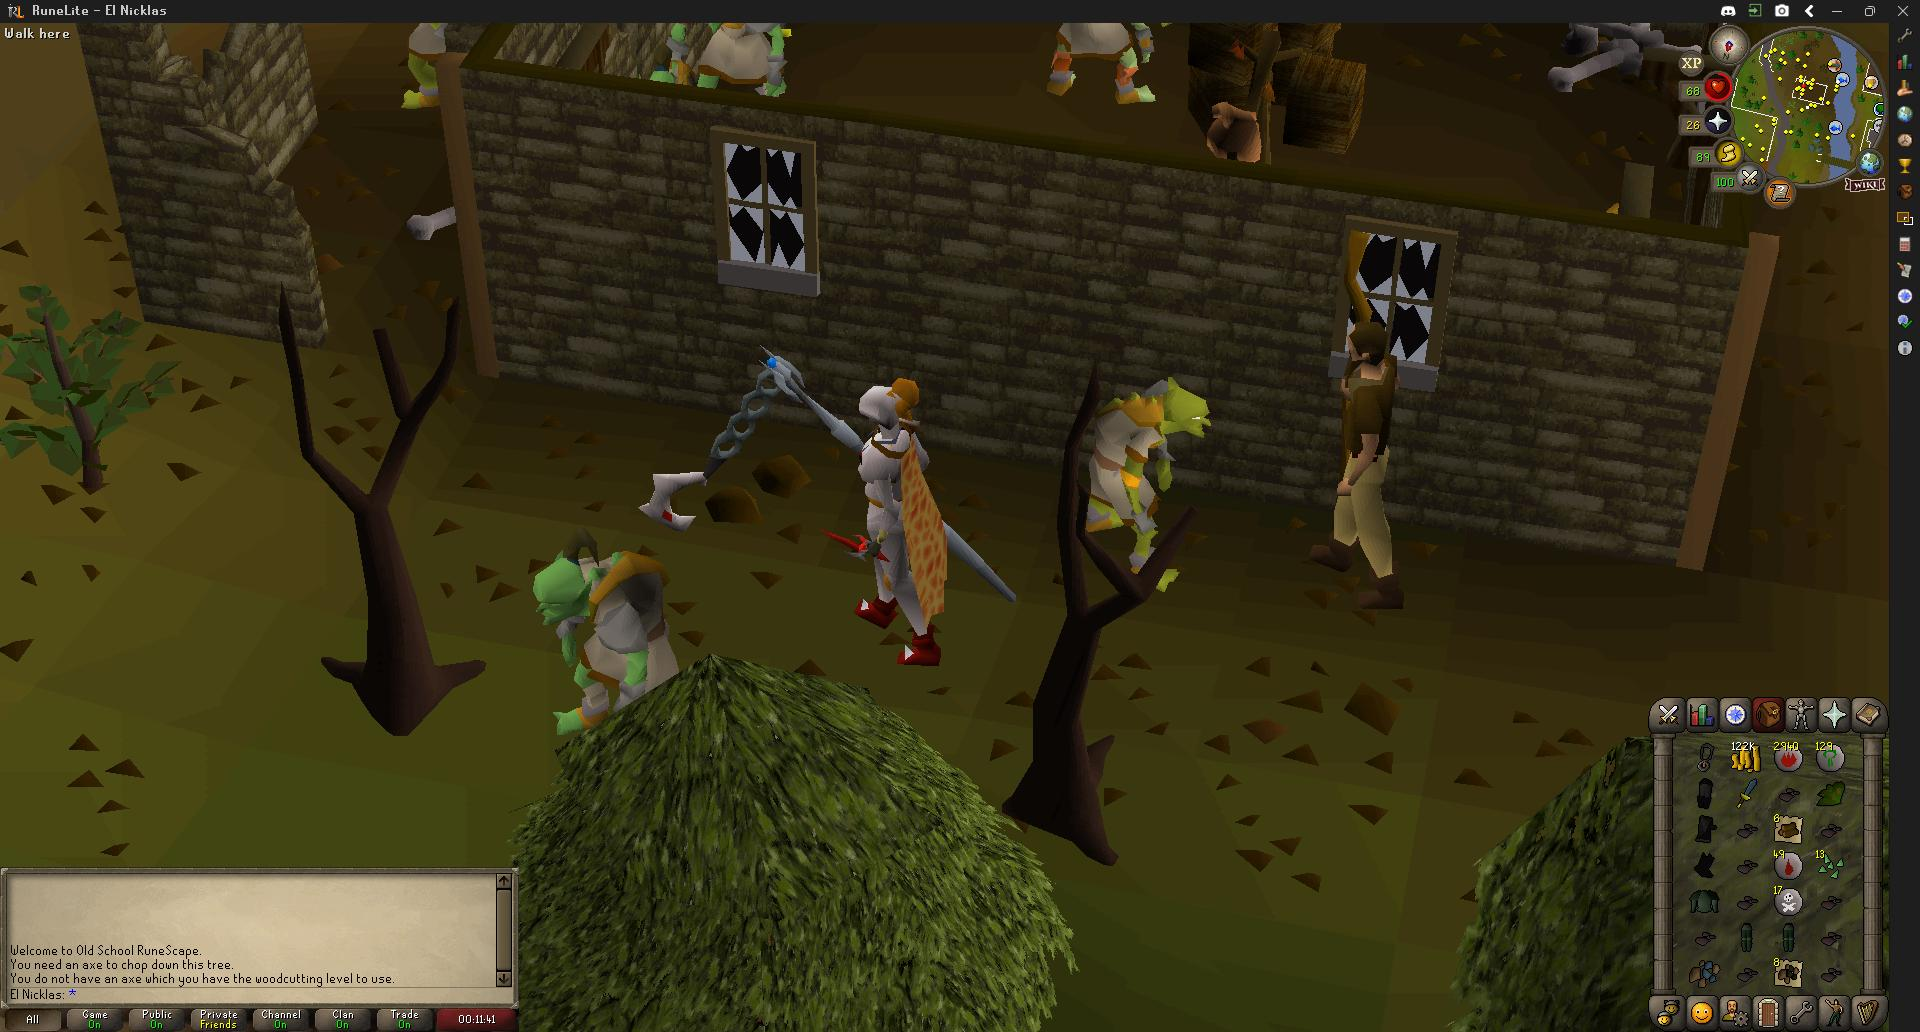Player: (777, 370, 1007, 666)
goblin: (528, 530, 657, 732), (1087, 376, 1211, 585), (657, 20, 797, 98), (1042, 19, 1161, 106), (399, 22, 448, 110)
